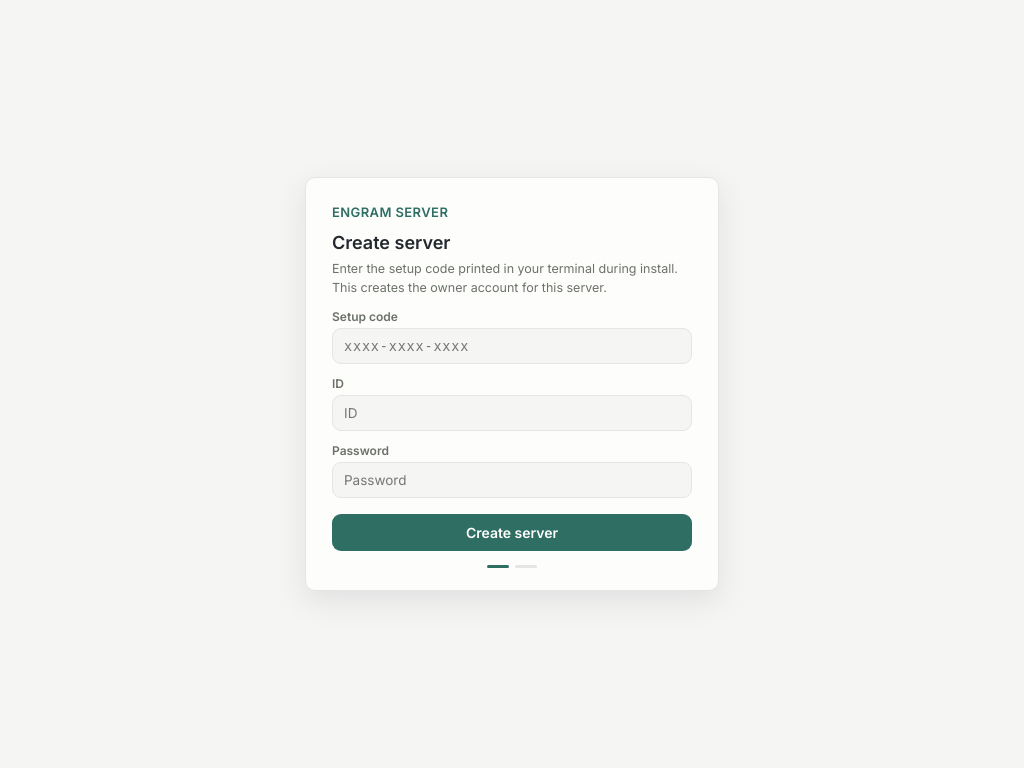
Test: setup 성공 시 Overview 전환+토큰 저장
Step 1. Type "9059-405f-5740" into the field labelled "Setup code" → (512, 346), box [332, 328, 692, 364]
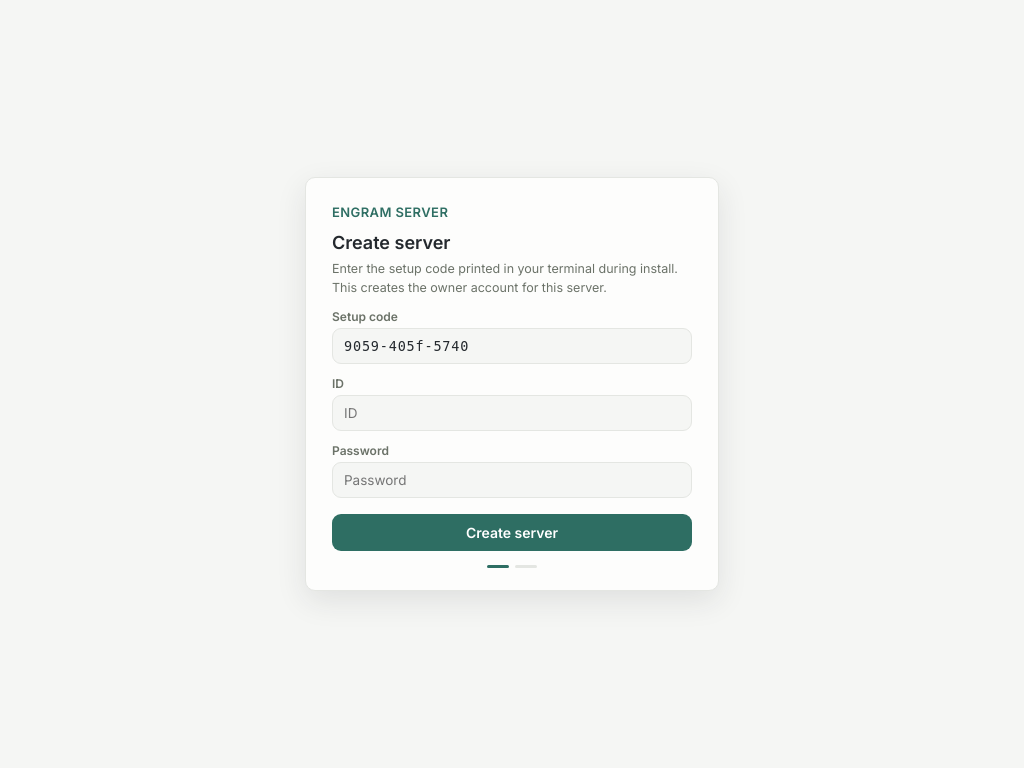
Step 2. Type "owner" into the field labelled "ID" → (512, 413), box [332, 395, 692, 431]
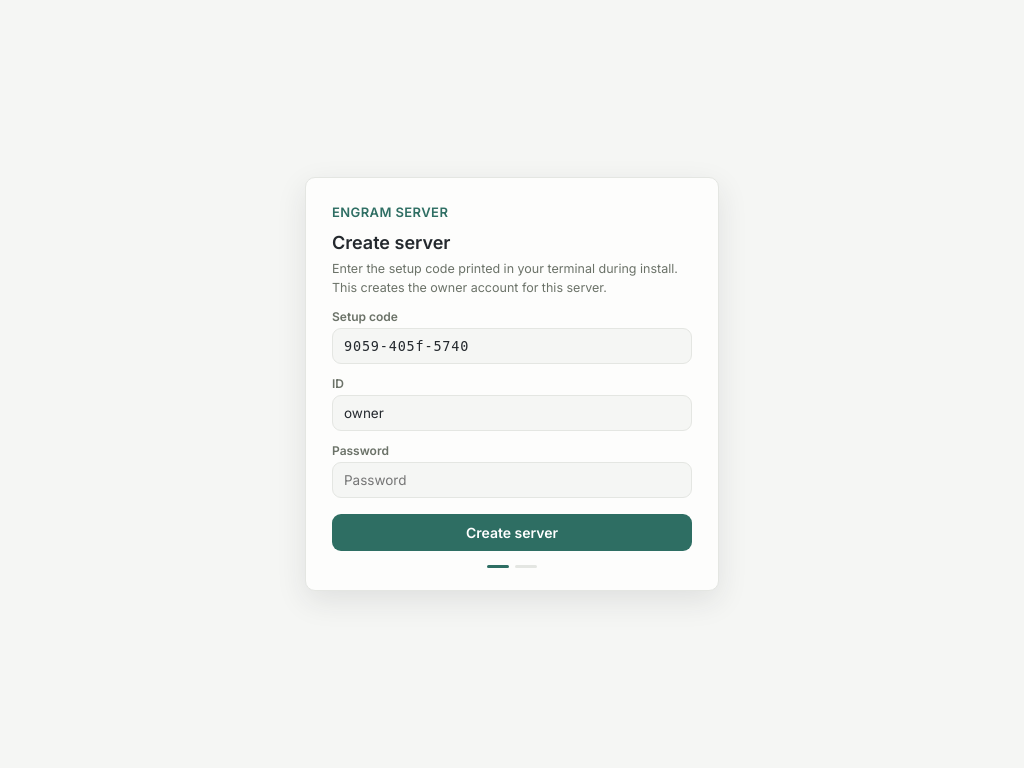
Step 3. Type "pw12345" into the password field labelled "Password" → (512, 480), box [332, 462, 692, 498]
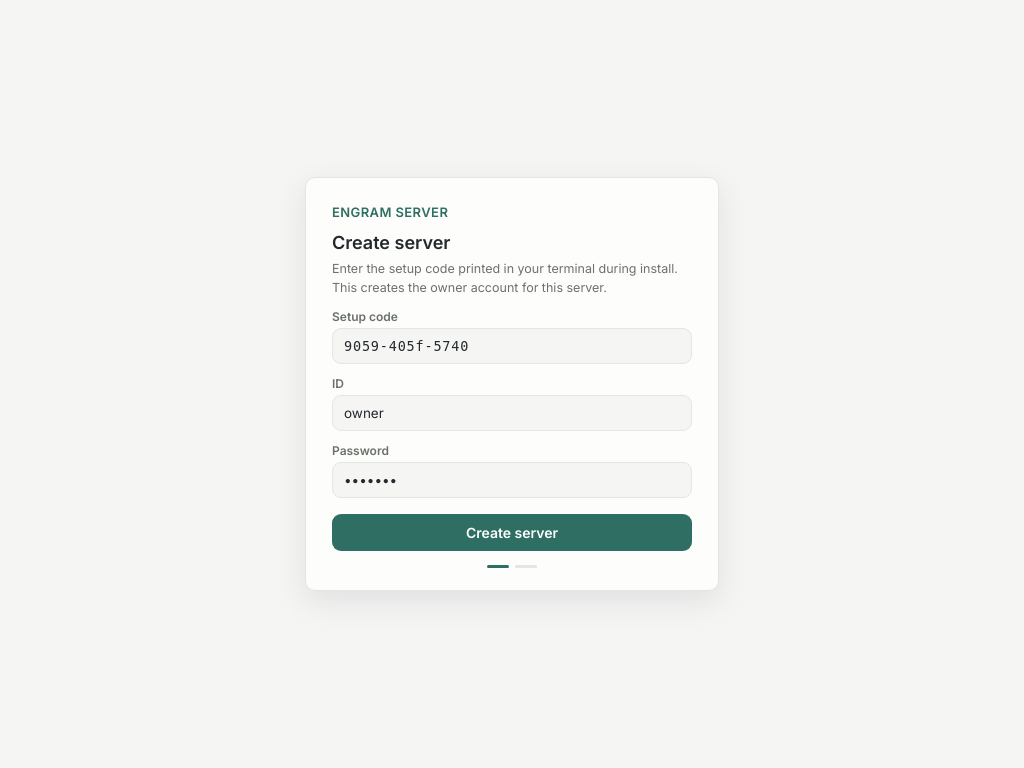
Step 4. Click the button "Create server" → (512, 533), box [332, 514, 692, 551]
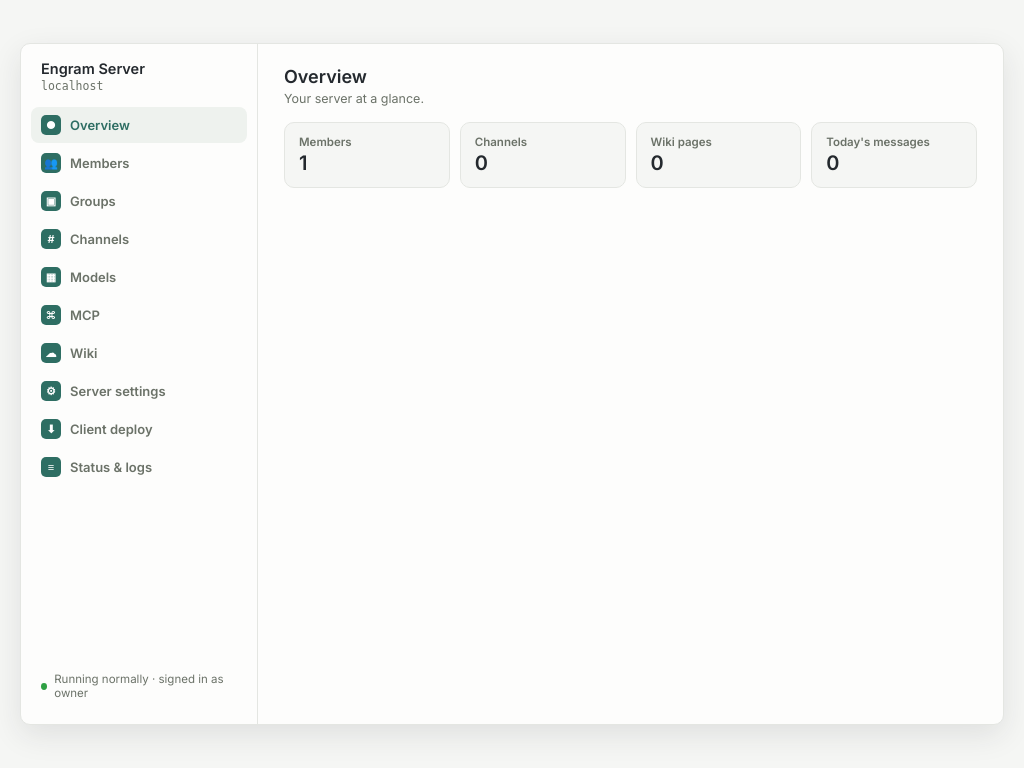
Check: the heading "Overview" is shown, box [284, 66, 367, 87]
